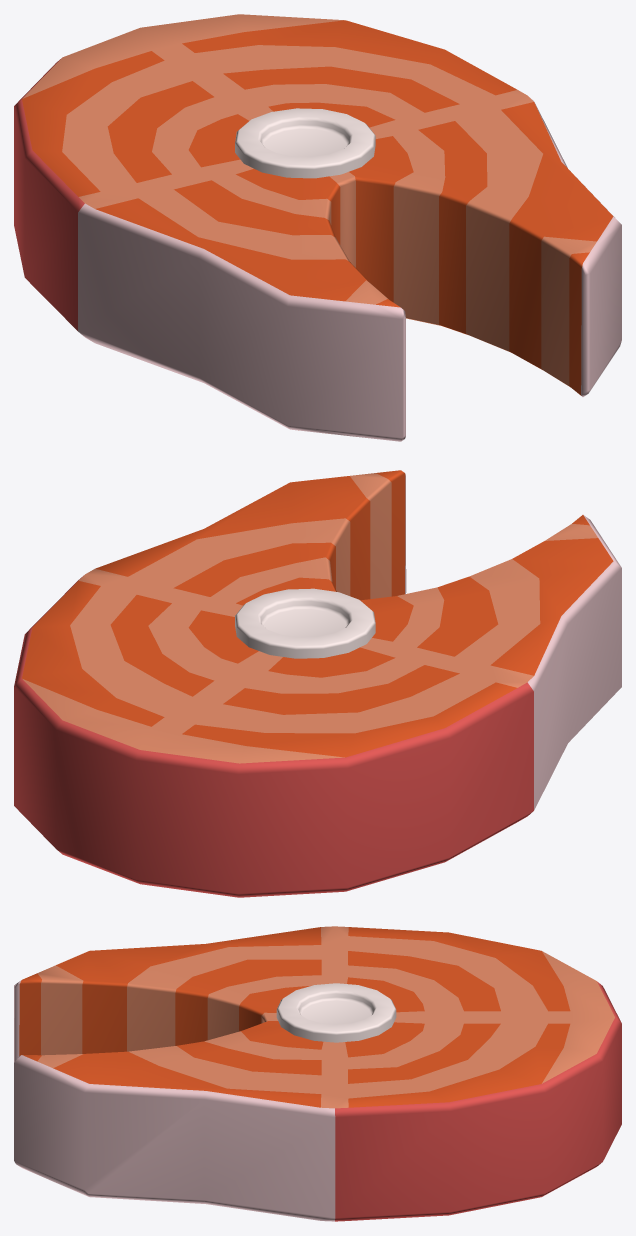
The model's file is Salmon_3_Steak_2.fbx.
The picture shows the model from 3 angles, top to bottom: view 1: azimuth 30°, elevation 25°; view 2: azimuth 150°, elevation 25°; view 3: azimuth 270°, elevation 25°; orthographic projection. The views are drawn at different scales.
Parts seen in each view (by area): view 1: Salmon_3_Steak_2; view 2: Salmon_3_Steak_2; view 3: Salmon_3_Steak_2.
Part boxes in pixels (x1,y1,x2,y2): Salmon_3_Steak_2: [14, 14, 621, 441]; Salmon_3_Steak_2: [14, 470, 621, 897]; Salmon_3_Steak_2: [14, 926, 621, 1221].
Bounding box in the file's own units: 20.5 × 6.79 × 28.06.
